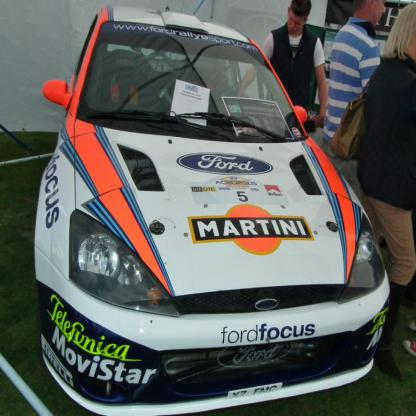Car: (34, 6, 390, 415)
